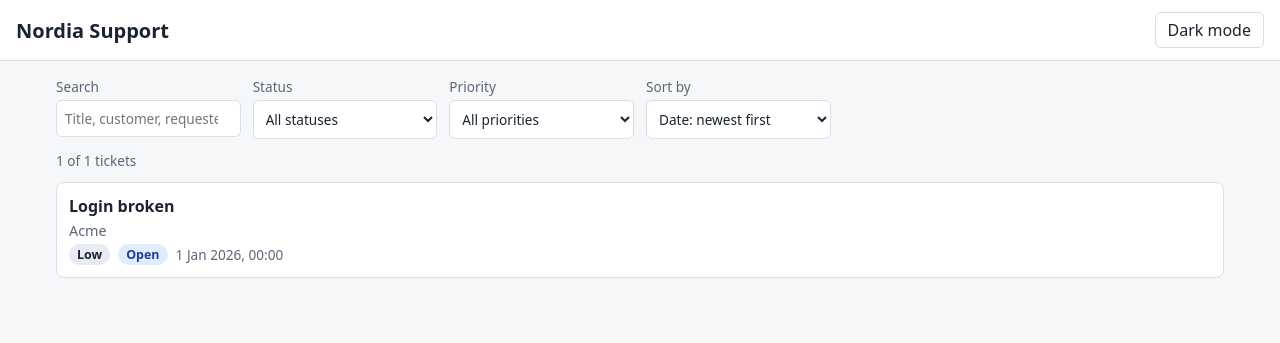
Test: App › shows an empty state when no ticket matches the search
Expected: the text "Login broken" is shown, x1=69 y1=195 x2=174 y2=217
Type "zzz" into the search field labelled "Search" at (148, 118), box x1=56 y1=100 x2=241 y2=137
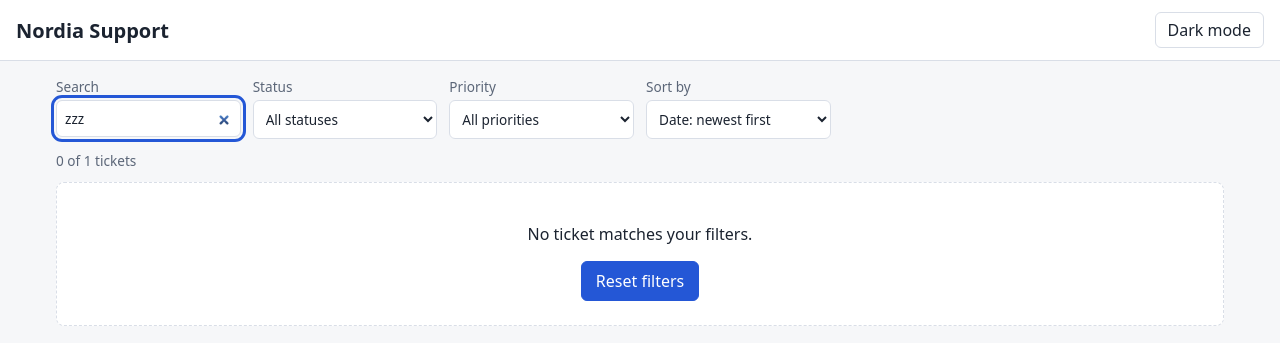
Now the text "No ticket matches your filters." is shown, box x1=528 y1=223 x2=752 y2=245
